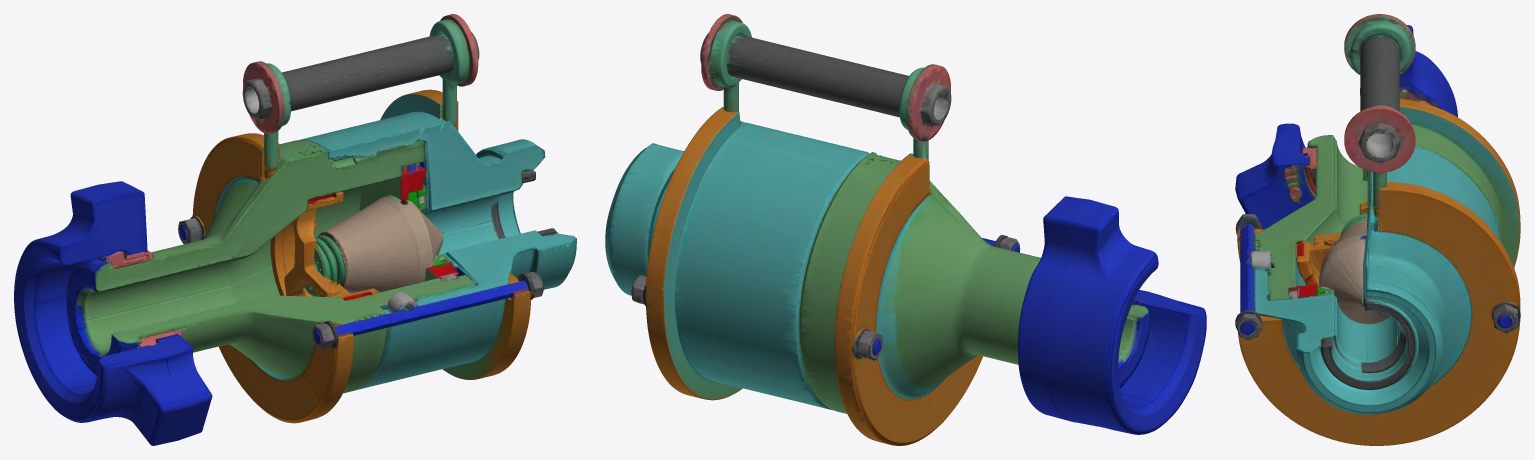
The model's file is ValvulaRetencionDardoPartes.glb.
The picture shows the model from 3 angles, left to right: view 1: azimuth 30°, elevation 25°; view 2: azimuth 150°, elevation 25°; view 3: azimuth 270°, elevation 25°; orthographic projection. The views are drawn at different scales.
Visible parts, largest first — view 1: tripo_part_0, tripo_part_1, tripo_part_3, tripo_part_2, tripo_part_4; view 2: tripo_part_0, tripo_part_1, tripo_part_3; view 3: tripo_part_0, tripo_part_3, tripo_part_1, tripo_part_2, tripo_part_4.
Boxes of the visible parts, x1=… form: tripo_part_0: x1=66, y1=89, x2=576, y2=423; tripo_part_1: x1=14, y1=181, x2=212, y2=445; tripo_part_3: x1=242, y1=14, x2=479, y2=178; tripo_part_2: x1=304, y1=195, x2=443, y2=296; tripo_part_4: x1=270, y1=191, x2=379, y2=300; tripo_part_0: x1=605, y1=107, x2=1150, y2=445; tripo_part_1: x1=1018, y1=196, x2=1206, y2=434; tripo_part_3: x1=700, y1=14, x2=951, y2=160; tripo_part_0: x1=1235, y1=99, x2=1520, y2=445; tripo_part_3: x1=1344, y1=14, x2=1415, y2=230; tripo_part_1: x1=1235, y1=25, x2=1457, y2=229; tripo_part_2: x1=1319, y1=213, x2=1390, y2=324; tripo_part_4: x1=1296, y1=201, x2=1367, y2=285.
Bounding box in the file's own units: 1 × 0.6809 × 0.5201.
Materials: 7 (7 with a texture image).
